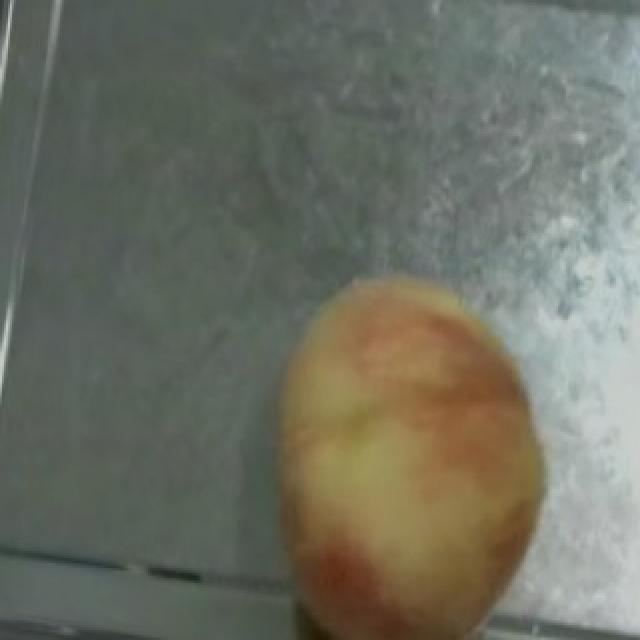Fruit: (234, 342, 556, 640)
